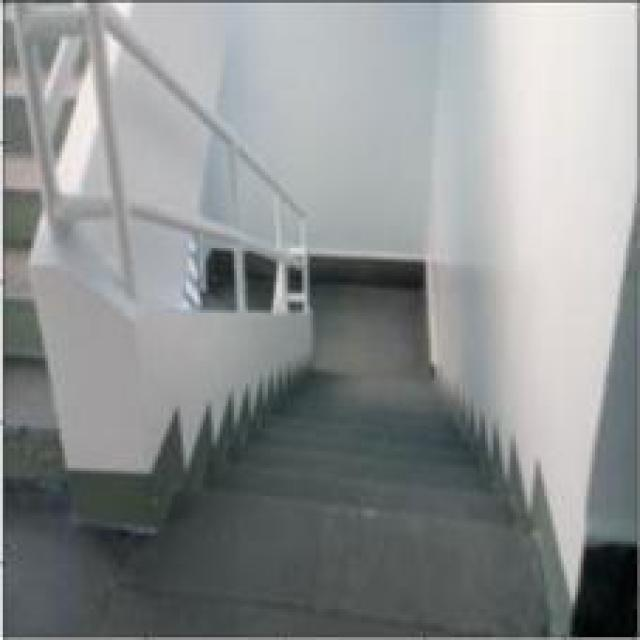downstair: (204, 356, 534, 540)
